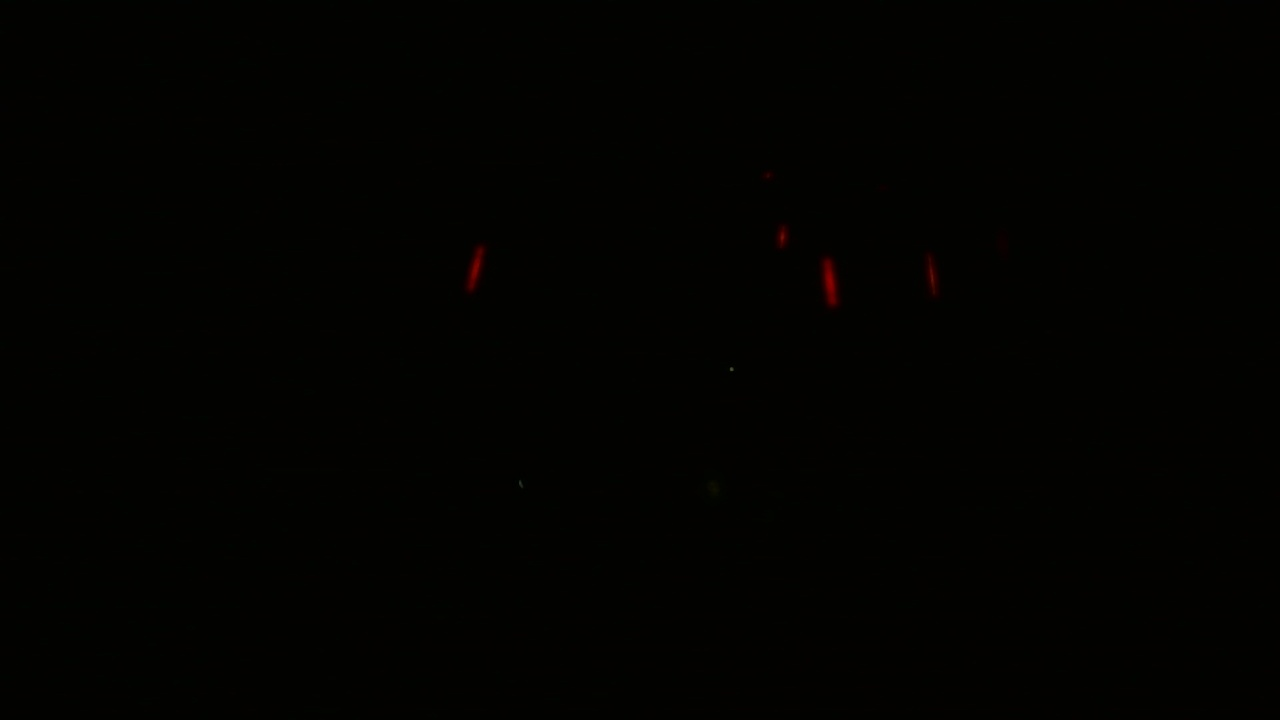pair1: (823, 250, 940, 308)
